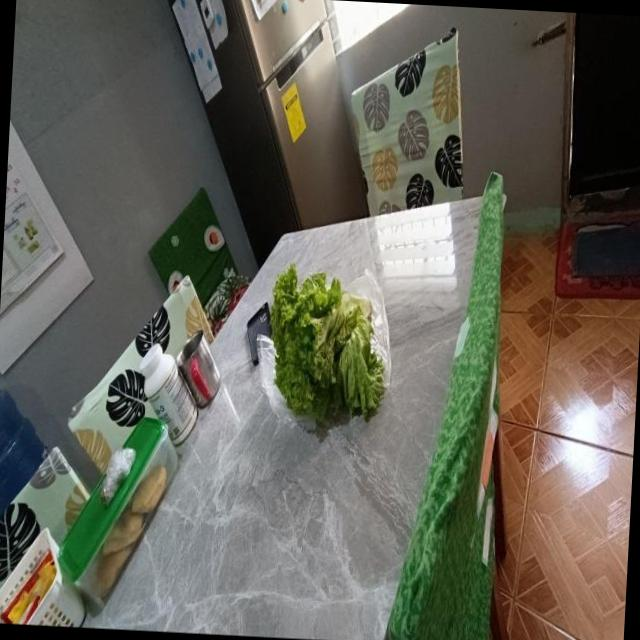Lettuce-Ready-to-Harvest: (271, 265, 384, 429)
